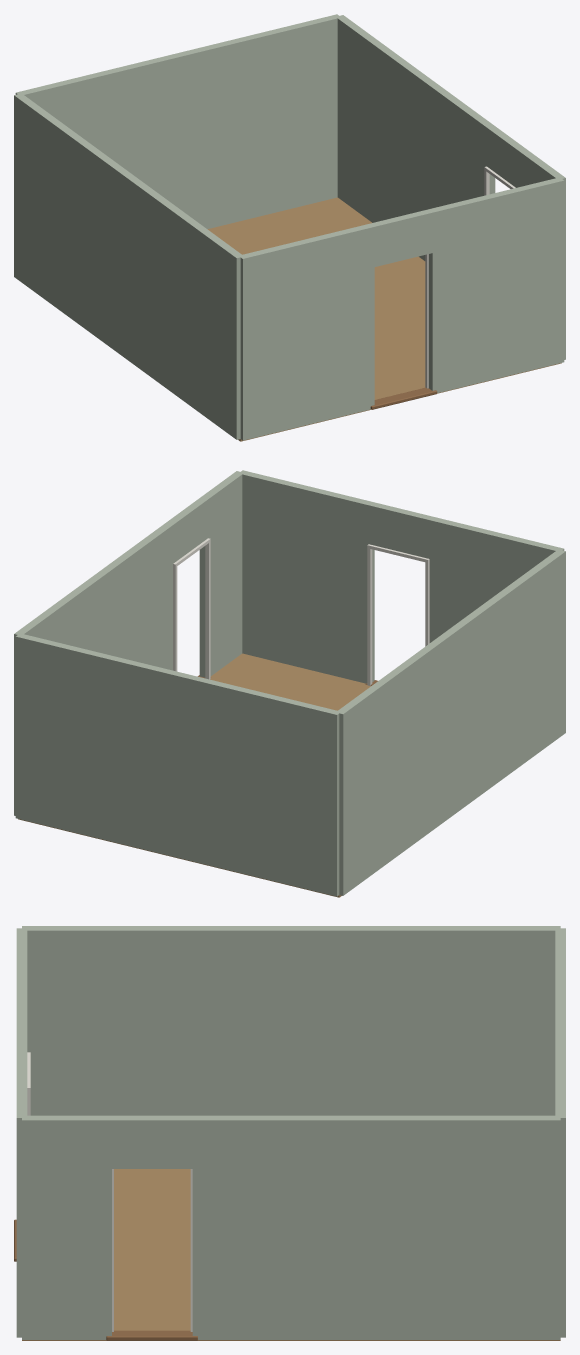
Rendered from ikea_sample_room.glb.
The picture shows the model from 3 angles, top to bottom: view 1: azimuth 30°, elevation 25°; view 2: azimuth 150°, elevation 25°; view 3: azimuth 270°, elevation 25°; orthographic projection. The views are drawn at different scales.
Visible parts, largest first — view 1: Wall_West, Wall_North, Wall_South_Right, Wall_South_Left, Wall_East_North, Floor_5x6m, Wall_South_DoorHeader, Wall_East_DoorHeader, Wall_East_South, Door_Threshold_South, South_Door_Jamb.001; view 2: Wall_North, Wall_West, Wall_South_Right, Wall_East_North, Wall_South_Left, Wall_East_South, Floor_5x6m, Wall_South_DoorHeader, Wall_East_DoorHeader, South_Door_Jamb.001, East_Door_Jamb, East_Door_Jamb.001; view 3: Wall_West, Wall_East_North, Wall_East_South, Floor_5x6m, Wall_East_DoorHeader, Wall_North, Wall_South_Right, Door_Threshold_East, Wall_South_Left.
Part boxes in pixels (x1=…): Wall_West: x1=14, y1=93, x2=243, y2=439; Wall_North: x1=15, y1=14, x2=338, y2=228; Wall_South_Right: x1=428, y1=177, x2=564, y2=392; Wall_South_Left: x1=240, y1=223, x2=374, y2=440; Wall_East_North: x1=336, y1=15, x2=495, y2=260; Floor_5x6m: x1=207, y1=197, x2=561, y2=441; Wall_South_DoorHeader: x1=370, y1=209, x2=432, y2=266; Wall_East_DoorHeader: x1=487, y1=126, x2=528, y2=187; Wall_East_South: x1=521, y1=151, x2=565, y2=359; Door_Threshold_South: x1=370, y1=387, x2=437, y2=409; South_Door_Jamb.001: x1=425, y1=254, x2=428, y2=388; Wall_North: x1=15, y1=634, x2=339, y2=896; Wall_West: x1=336, y1=549, x2=565, y2=895; Wall_South_Right: x1=240, y1=470, x2=374, y2=683; Wall_East_North: x1=14, y1=522, x2=173, y2=815; Wall_South_Left: x1=428, y1=516, x2=564, y2=642; Wall_East_South: x1=199, y1=471, x2=243, y2=677; Floor_5x6m: x1=18, y1=653, x2=370, y2=897; Wall_South_DoorHeader: x1=370, y1=502, x2=431, y2=558; Wall_East_DoorHeader: x1=166, y1=498, x2=207, y2=562; South_Door_Jamb.001: x1=367, y1=546, x2=372, y2=685; East_Door_Jamb: x1=205, y1=541, x2=210, y2=679; East_Door_Jamb.001: x1=173, y1=565, x2=177, y2=671; Wall_West: x1=22, y1=926, x2=560, y2=1115; Wall_East_North: x1=192, y1=1115, x2=560, y2=1339; Wall_East_South: x1=22, y1=1115, x2=111, y2=1339; Floor_5x6m: x1=22, y1=1169, x2=560, y2=1340; Wall_East_DoorHeader: x1=112, y1=1115, x2=192, y2=1168; Wall_North: x1=555, y1=928, x2=565, y2=1337; Wall_South_Right: x1=16, y1=1040, x2=27, y2=1337; Door_Threshold_East: x1=106, y1=1330, x2=197, y2=1340; Wall_South_Left: x1=16, y1=928, x2=27, y2=1005.
Bounding box in the file's own units: 5.15 × 2.74 × 6.15.
